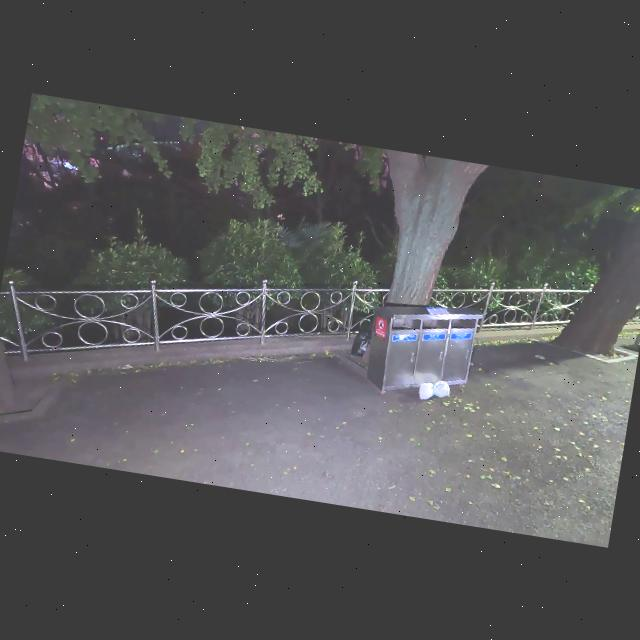trash: (348, 320, 372, 360), (415, 380, 441, 406), (430, 378, 452, 400)
